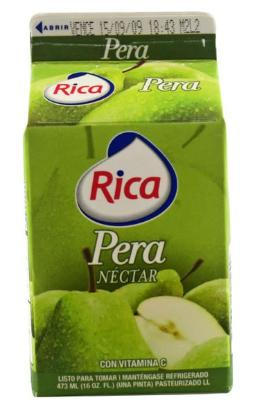Others: (20, 8, 236, 400)
